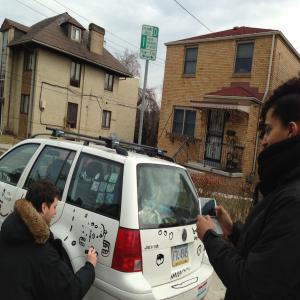Vehicle-registration-plate: (172, 245, 190, 268)
